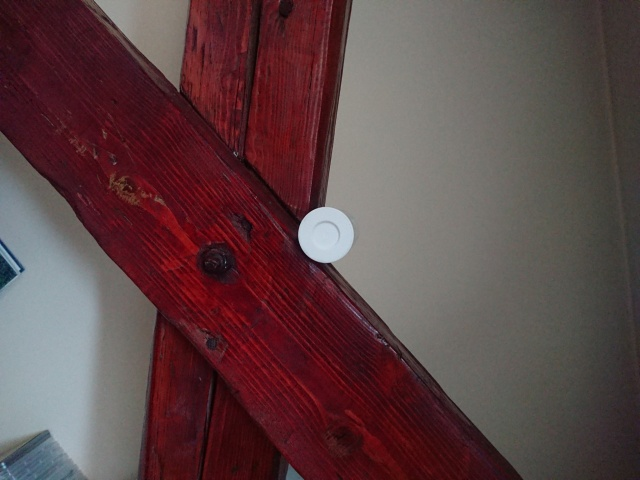Solana Pag Fine Sea Salt 250g: (295, 204, 359, 265)
